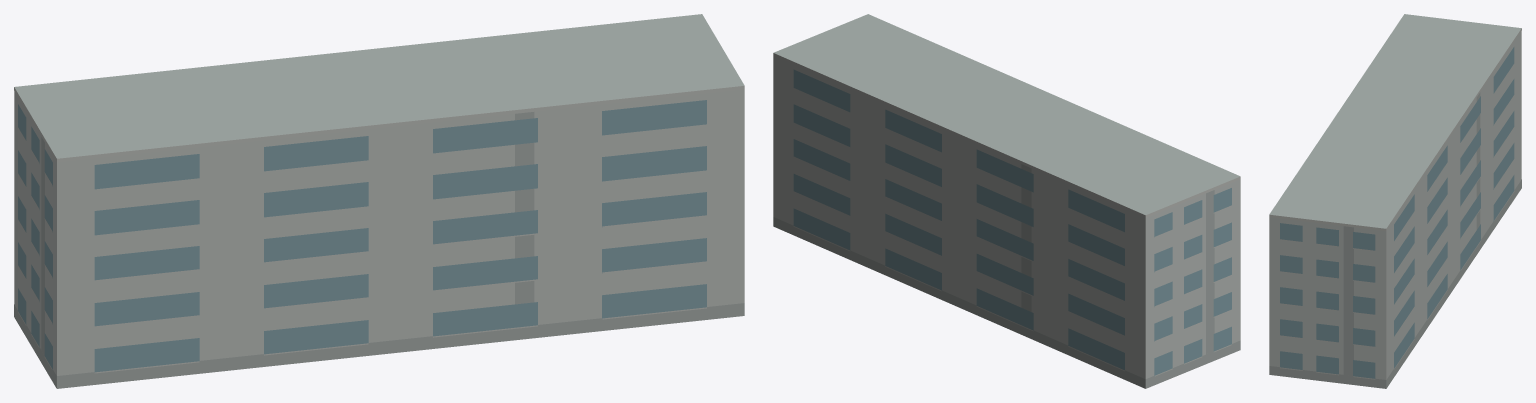
The model's file is residential-79a11cf2-7299-47be-879e-b47aa3ca2826.glb.
3 views of the same model, side by side, from view 1: azimuth 30°, elevation 25°; view 2: azimuth 150°, elevation 25°; view 3: azimuth 270°, elevation 25° (orthographic). The views are drawn at different scales.
Visible parts, largest first — view 1: residential-79a11cf2-7299-47be-879e-b47aa3ca2826.tmp; view 2: residential-79a11cf2-7299-47be-879e-b47aa3ca2826.tmp; view 3: residential-79a11cf2-7299-47be-879e-b47aa3ca2826.tmp.
Boxes of the visible parts, x1,y1,x2,y2 form: residential-79a11cf2-7299-47be-879e-b47aa3ca2826.tmp: (14,14,744,388); residential-79a11cf2-7299-47be-879e-b47aa3ca2826.tmp: (773,14,1240,388); residential-79a11cf2-7299-47be-879e-b47aa3ca2826.tmp: (1269,14,1521,388).
Size of the model in its own units: 43.87 by 15.25 by 21.81.
